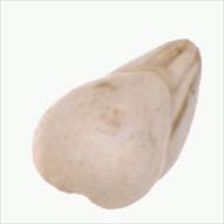L1: (149, 37, 197, 125)
L2: (30, 38, 202, 208)
